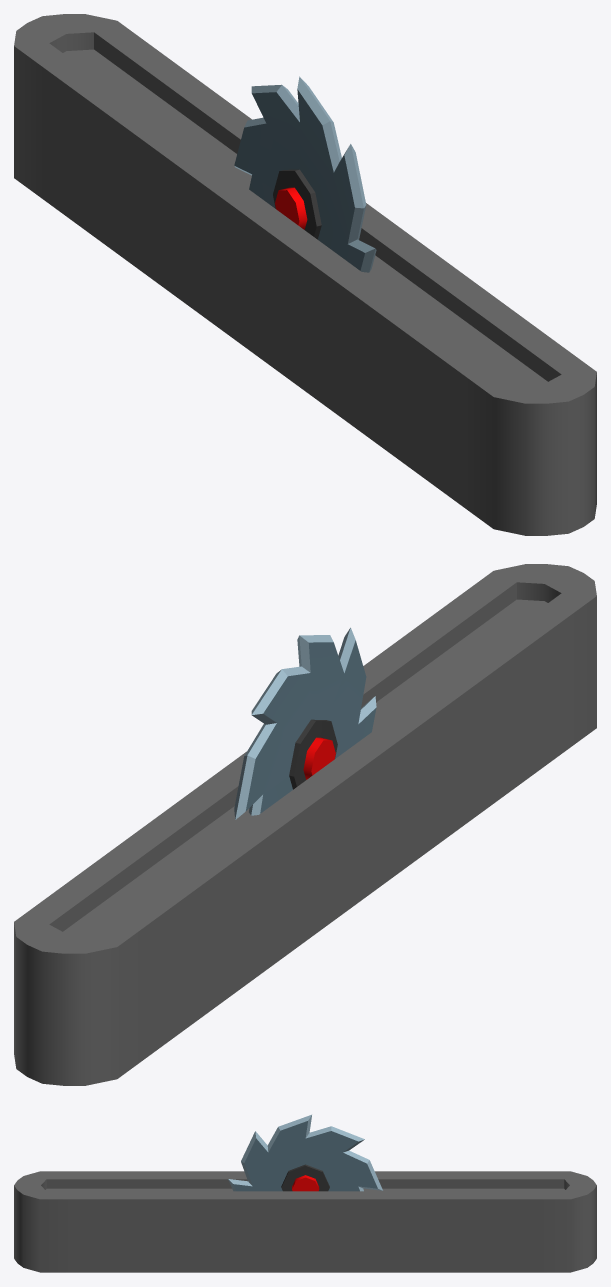
File: trap_may_cua2.fbx
3 views of the same model, one above another, from view 1: azimuth 30°, elevation 25°; view 2: azimuth 150°, elevation 25°; view 3: azimuth 270°, elevation 25° (orthographic). The views are drawn at different scales.
Parts seen in each view (by area): view 1: de, cua; view 2: de, cua; view 3: de, cua.
Part boxes in pixels (left/top/right/bottom): de: left=14, top=14, right=596, bottom=535; cua: left=234, top=76, right=376, bottom=272; de: left=14, top=564, right=596, bottom=1085; cua: left=234, top=627, right=376, bottom=819; de: left=14, top=1171, right=596, bottom=1272; cua: left=228, top=1114, right=382, bottom=1191.
Bounding box in the file's own units: 54.53 × 131 × 481.
